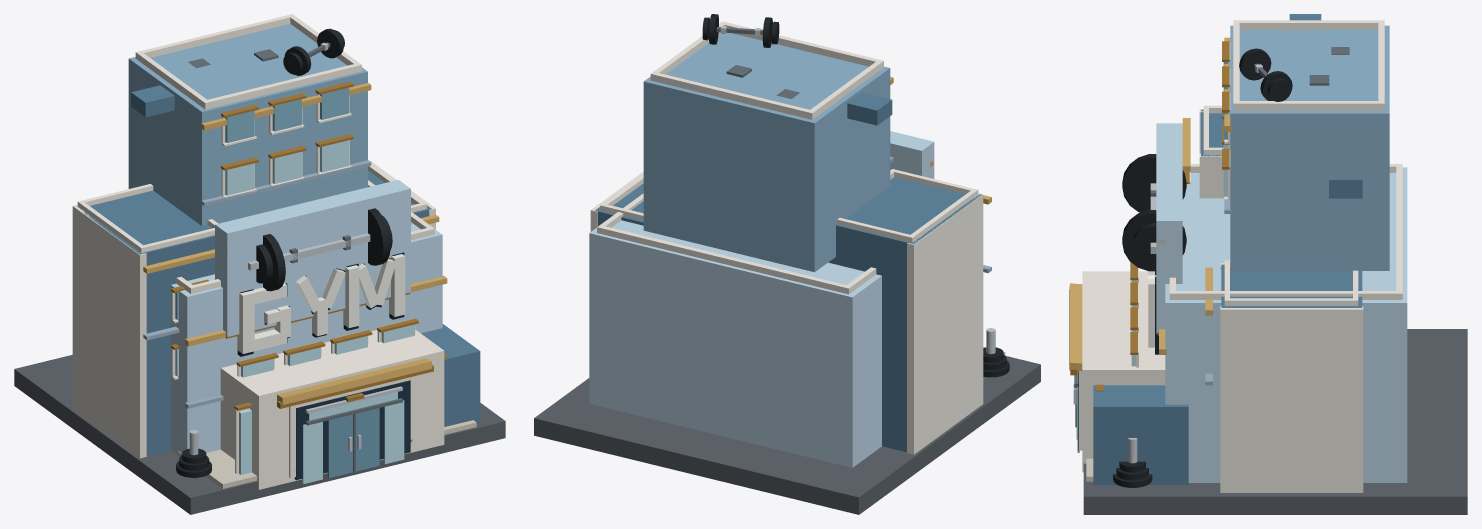
The model's file is gym-building.glb.
The picture shows the model from 3 angles, left to right: view 1: azimuth 30°, elevation 25°; view 2: azimuth 150°, elevation 25°; view 3: azimuth 270°, elevation 25°; orthographic projection. The views are drawn at different scales.
Parts seen in each view (by area): view 1: gym_building; view 2: gym_building; view 3: gym_building.
Boxes of the visible parts, x1=… form: gym_building: x1=14, y1=14, x2=505, y2=514; gym_building: x1=534, y1=14, x2=1040, y2=514; gym_building: x1=1069, y1=14, x2=1467, y2=514.
Bounding box in the file's own units: 11.3 × 12.47 × 11.36.
